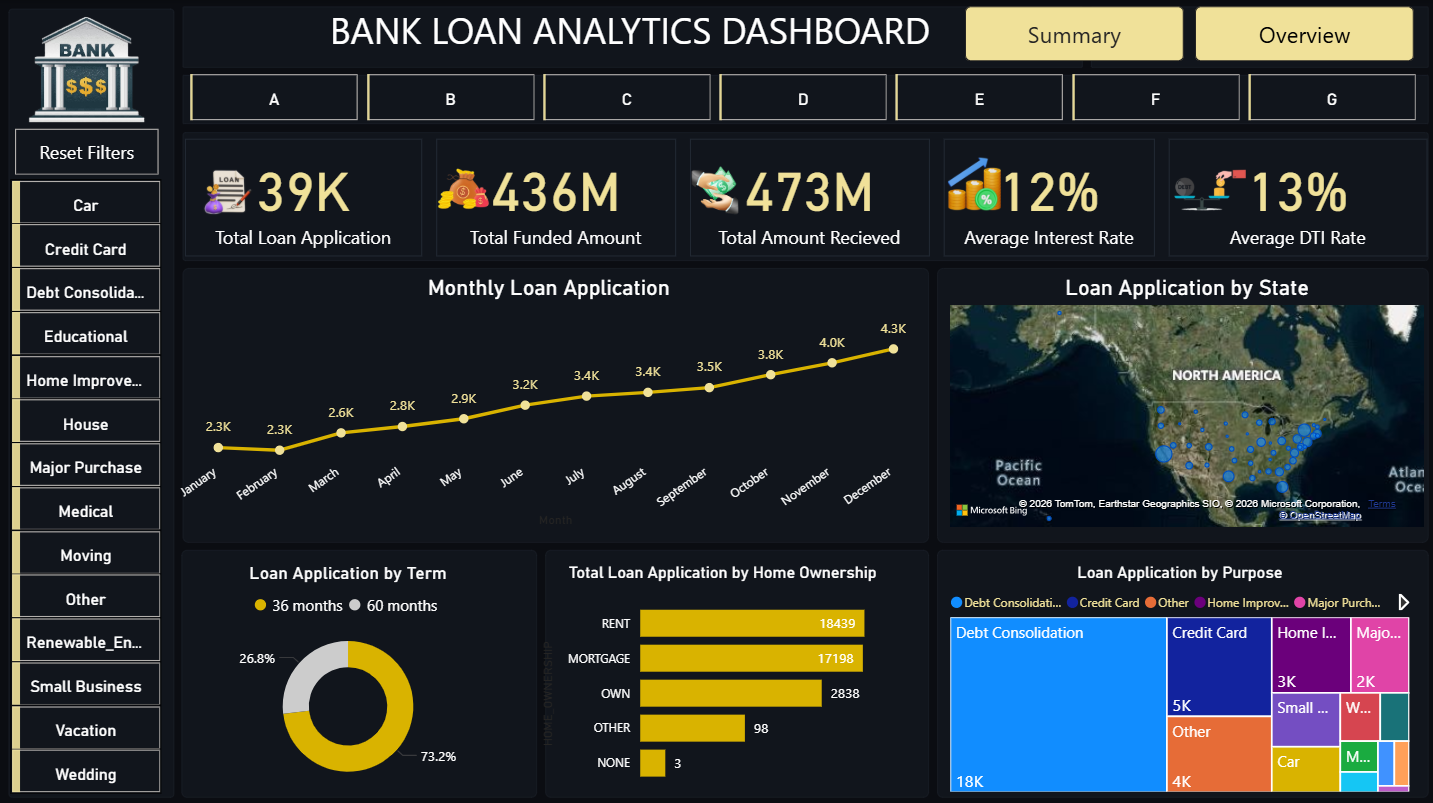

The page's visual inventory and layout, read from the dashboard file:
{"tool":"powerbi","page":{"name":"Overview","canvas":[1280,720],"ordinal":1},"visuals":[{"type":"card","fields":{"Values":["financial_loan.Total Loan Application"]},"box":[165.3,123.1,211.1,105],"z":0},{"type":"card","fields":{"Values":["financial_loan.Total Funded Amount"]},"box":[388.8,123.1,213.5,105],"z":1000},{"type":"card","fields":{"Values":["financial_loan.Total Amount Recieved"]},"box":[614.7,123.1,213.5,105],"z":2000},{"type":"card","fields":{"Values":["financial_loan.Average Interest Rate"]},"box":[840.6,123.1,188.2,105],"z":3000},{"type":"card","fields":{"Values":["financial_loan.Average DTI Rate"]},"box":[1041.2,123.1,230.4,105],"z":4000},{"type":"image","box":[176.1,138.7,54.3,63.9],"z":5000},{"type":"image","box":[363.1,132.7,101.3,63.9],"z":6000},{"type":"image","box":[599.6,143.6,73.6,53.1],"z":7000},{"type":"image","box":[839.7,135.1,56.7,59.1],"z":8000},{"type":"image","box":[1041.2,132.7,73.6,73.6],"z":9000},{"type":"textbox","box":[721.5,481.4,202.7,38.6],"z":22000},{"type":"image","box":[0,0,154.4,123.1],"z":25000},{"type":"advancedSlicerVisual","fields":{"Values":["financial_loan.PURPOSE"]},"box":[4.8,154.4,144.8,565.8],"z":26000},{"type":"advancedSlicerVisual","fields":{"Values":["financial_loan.GRADE"]},"box":[165.3,61.5,1106.3,51.9],"z":27000},{"type":"actionButton","box":[13.3,114.6,127.9,41],"z":28000},{"type":"textbox","box":[187,0,748,61.5],"z":29000},{"type":"pageNavigator","box":[859,6,400.5,49.5],"z":29001},{"type":"lineChart","title":"Monthly Loan Application","fields":{"Category":["financial_loan.ISSUE_DATE.Variation.Date Hierarchy.Month"],"Y":["financial_loan.Total Loan Application"]},"box":[154.4,245.3,668,229.4],"z":29002},{"type":"donutChart","title":"Loan Application by Term","fields":{"Category":["financial_loan.TERM"],"Y":["financial_loan.Total Loan Application"]},"box":[165.9,500.6,288.6,209.2],"z":29003},{"type":"clusteredBarChart","title":"Total Loan Application by Home Ownership","fields":{"Category":["financial_loan.HOME_OWNERSHIP"],"Y":["financial_loan.Total Loan Application"]},"box":[477.6,500.6,331.8,209.2],"z":29004},{"type":"treemap","title":" Loan Application by Purpose","fields":{"Group":["financial_loan.PURPOSE"],"Values":["financial_loan.Total Loan Application"]},"box":[841.1,500.6,418.4,209.2],"z":29005},{"type":"map","title":"Loan Application by State","fields":{"Category":["financial_loan.ADDRESS_STATE"],"Size":["financial_loan.Total Loan Application"]},"box":[841.1,245.3,431.4,229.4],"z":29006}]}

Visuals, with their boxes in screenshot pixels (x1, y1, x2, y2), scaled from the page's 1280x720 canvas onto the 1433x803 screenshot:
card - financial_loan.Total Loan Application: (x1=185, y1=137, x2=421, y2=254)
card - financial_loan.Total Funded Amount: (x1=435, y1=137, x2=674, y2=254)
card - financial_loan.Total Amount Recieved: (x1=688, y1=137, x2=927, y2=254)
card - financial_loan.Average Interest Rate: (x1=941, y1=137, x2=1152, y2=254)
card - financial_loan.Average DTI Rate: (x1=1166, y1=137, x2=1424, y2=254)
image: (x1=197, y1=155, x2=258, y2=226)
image: (x1=407, y1=148, x2=520, y2=219)
image: (x1=671, y1=160, x2=754, y2=219)
image: (x1=940, y1=151, x2=1004, y2=217)
image: (x1=1166, y1=148, x2=1248, y2=230)
textbox: (x1=808, y1=537, x2=1035, y2=580)
image: (x1=0, y1=0, x2=173, y2=137)
advancedSlicerVisual - financial_loan.PURPOSE: (x1=5, y1=172, x2=167, y2=802)
advancedSlicerVisual - financial_loan.GRADE: (x1=185, y1=69, x2=1424, y2=126)
actionButton: (x1=15, y1=128, x2=158, y2=174)
textbox: (x1=209, y1=0, x2=1047, y2=69)
pageNavigator: (x1=962, y1=7, x2=1410, y2=62)
"Monthly Loan Application" lineChart: (x1=173, y1=274, x2=921, y2=529)
"Loan Application by Term" donutChart: (x1=186, y1=558, x2=509, y2=792)
"Total Loan Application by Home Ownership" clusteredBarChart: (x1=535, y1=558, x2=906, y2=792)
" Loan Application by Purpose" treemap: (x1=942, y1=558, x2=1410, y2=792)
"Loan Application by State" map: (x1=942, y1=274, x2=1425, y2=529)
